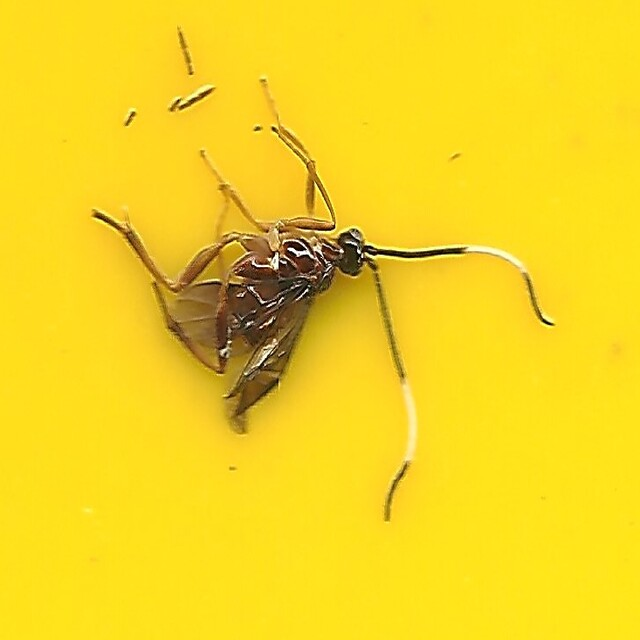Hymenoptera: (87, 114, 553, 526)
